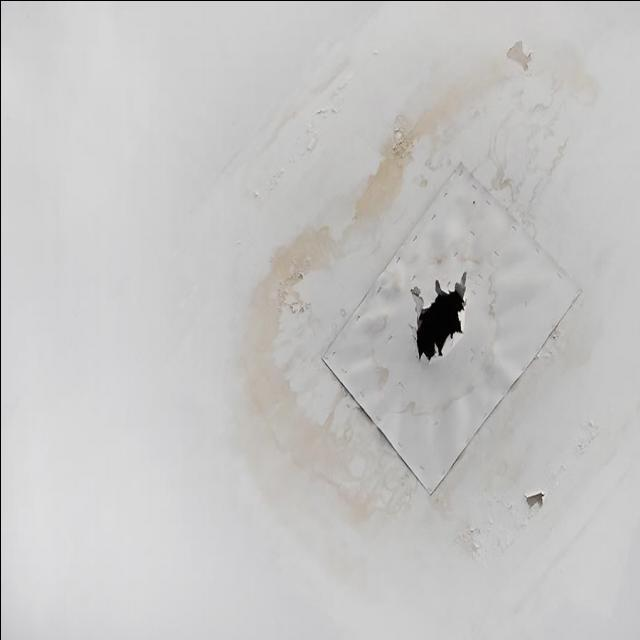Crack: (406, 271, 476, 370)
leak: (250, 47, 588, 573)
